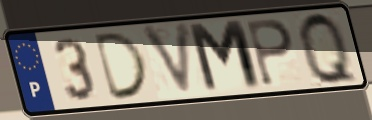3: (51, 36, 98, 102)
D: (92, 29, 152, 103)
M: (184, 17, 266, 96)
P: (244, 18, 297, 89)
Q: (296, 9, 362, 87)
V: (138, 19, 196, 100)
